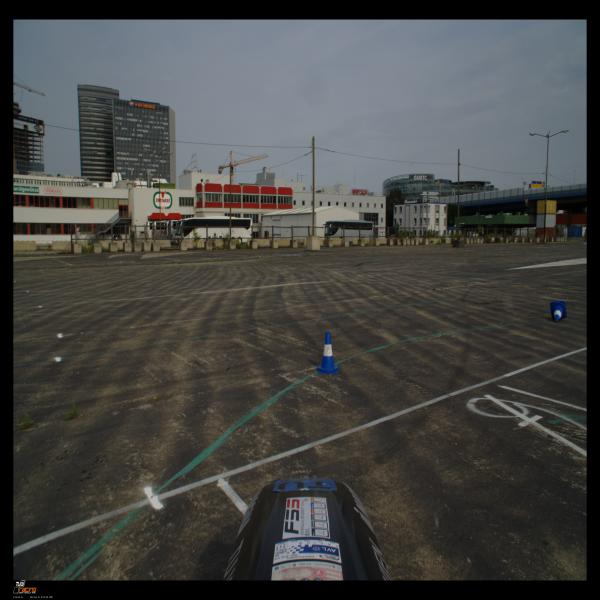blue_cone: (318, 331, 338, 374), (550, 301, 567, 322)
